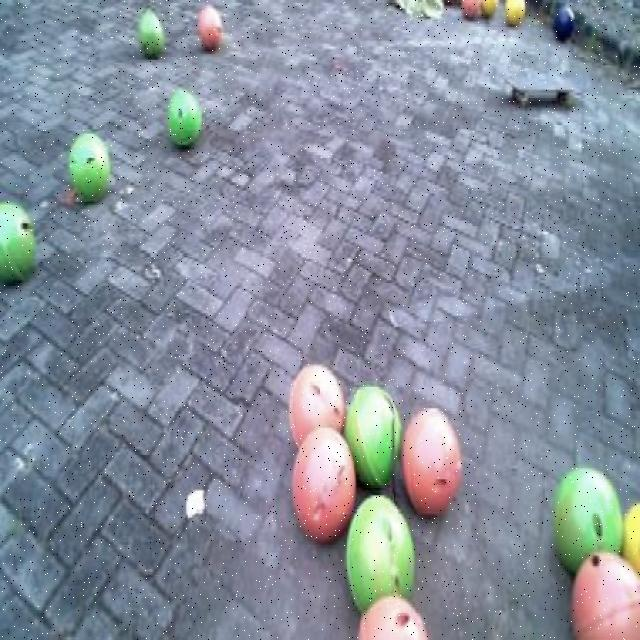buoy: (341, 489, 423, 612), (550, 455, 625, 580), (289, 418, 357, 543), (400, 392, 465, 520), (341, 370, 404, 482), (285, 352, 349, 457), (568, 545, 638, 634), (0, 175, 38, 298), (62, 120, 112, 210), (349, 590, 433, 636), (162, 78, 208, 157), (132, 3, 170, 68), (192, 0, 225, 54)
